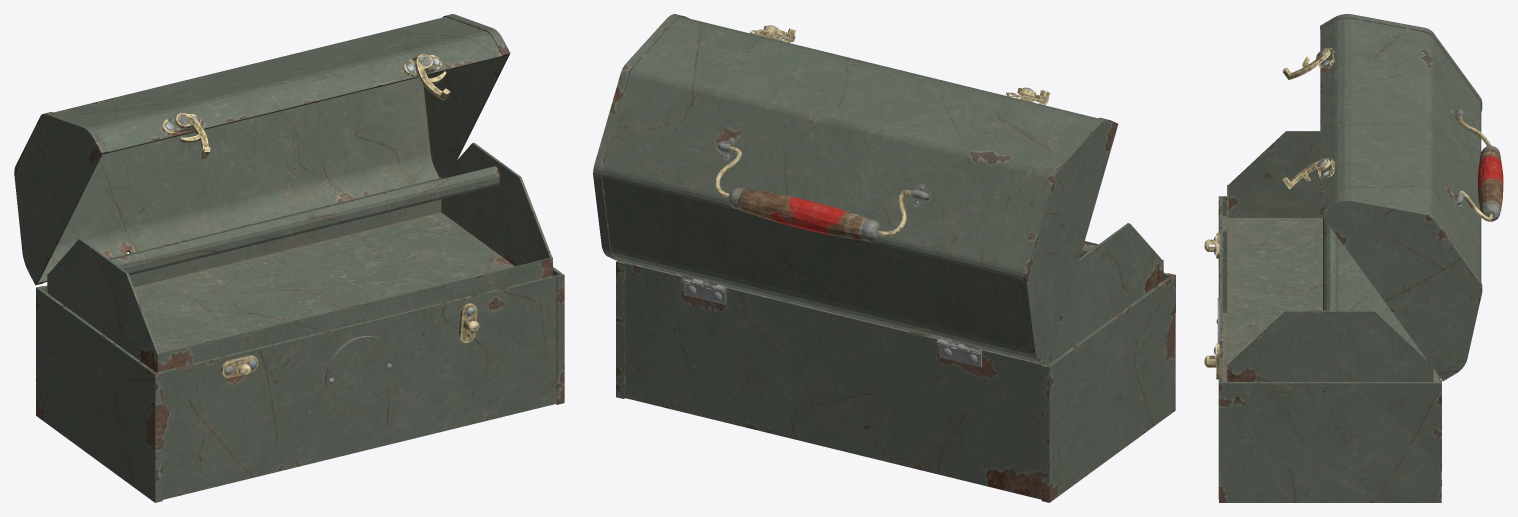
Rendered from BurglarToolbox.obj.
The picture shows the model from 3 angles, left to right: view 1: azimuth 30°, elevation 25°; view 2: azimuth 150°, elevation 25°; view 3: azimuth 270°, elevation 25°; orthographic projection. The views are drawn at different scales.
Visible parts, largest first — view 1: Cylinder_015, Cube_012, Cube_013, Cylinder_006, Cylinder_003; view 2: Cylinder_015, Cube_012, Cube_013, Cylinder_021; view 3: Cylinder_015, Cube_013, Cube_012, Cylinder_021, Cylinder_003, Cylinder_006.
Part boxes in pixels (left/top/right/bottom): Cylinder_015: left=14, top=14, right=510, bottom=285; Cube_012: left=36, top=267, right=564, bottom=502; Cube_013: left=47, top=142, right=552, bottom=372; Cylinder_006: left=415, top=54, right=450, bottom=100; Cylinder_003: left=175, top=113, right=210, bottom=158; Cylinder_015: left=593, top=14, right=1118, bottom=365; Cube_012: left=616, top=260, right=1175, bottom=502; Cube_013: left=629, top=223, right=1163, bottom=363; Cylinder_021: left=715, top=146, right=912, bottom=241; Cylinder_015: left=1317, top=14, right=1482, bottom=381; Cube_013: left=1227, top=131, right=1433, bottom=381; Cube_012: left=1204, top=196, right=1441, bottom=502; Cylinder_021: left=1458, top=114, right=1503, bottom=221; Cylinder_003: left=1282, top=48, right=1330, bottom=79; Cylinder_006: left=1282, top=158, right=1330, bottom=189.
Size of the model in its own units: 0.4 by 0.3047 by 0.2706.
1 material, 1 textured.
